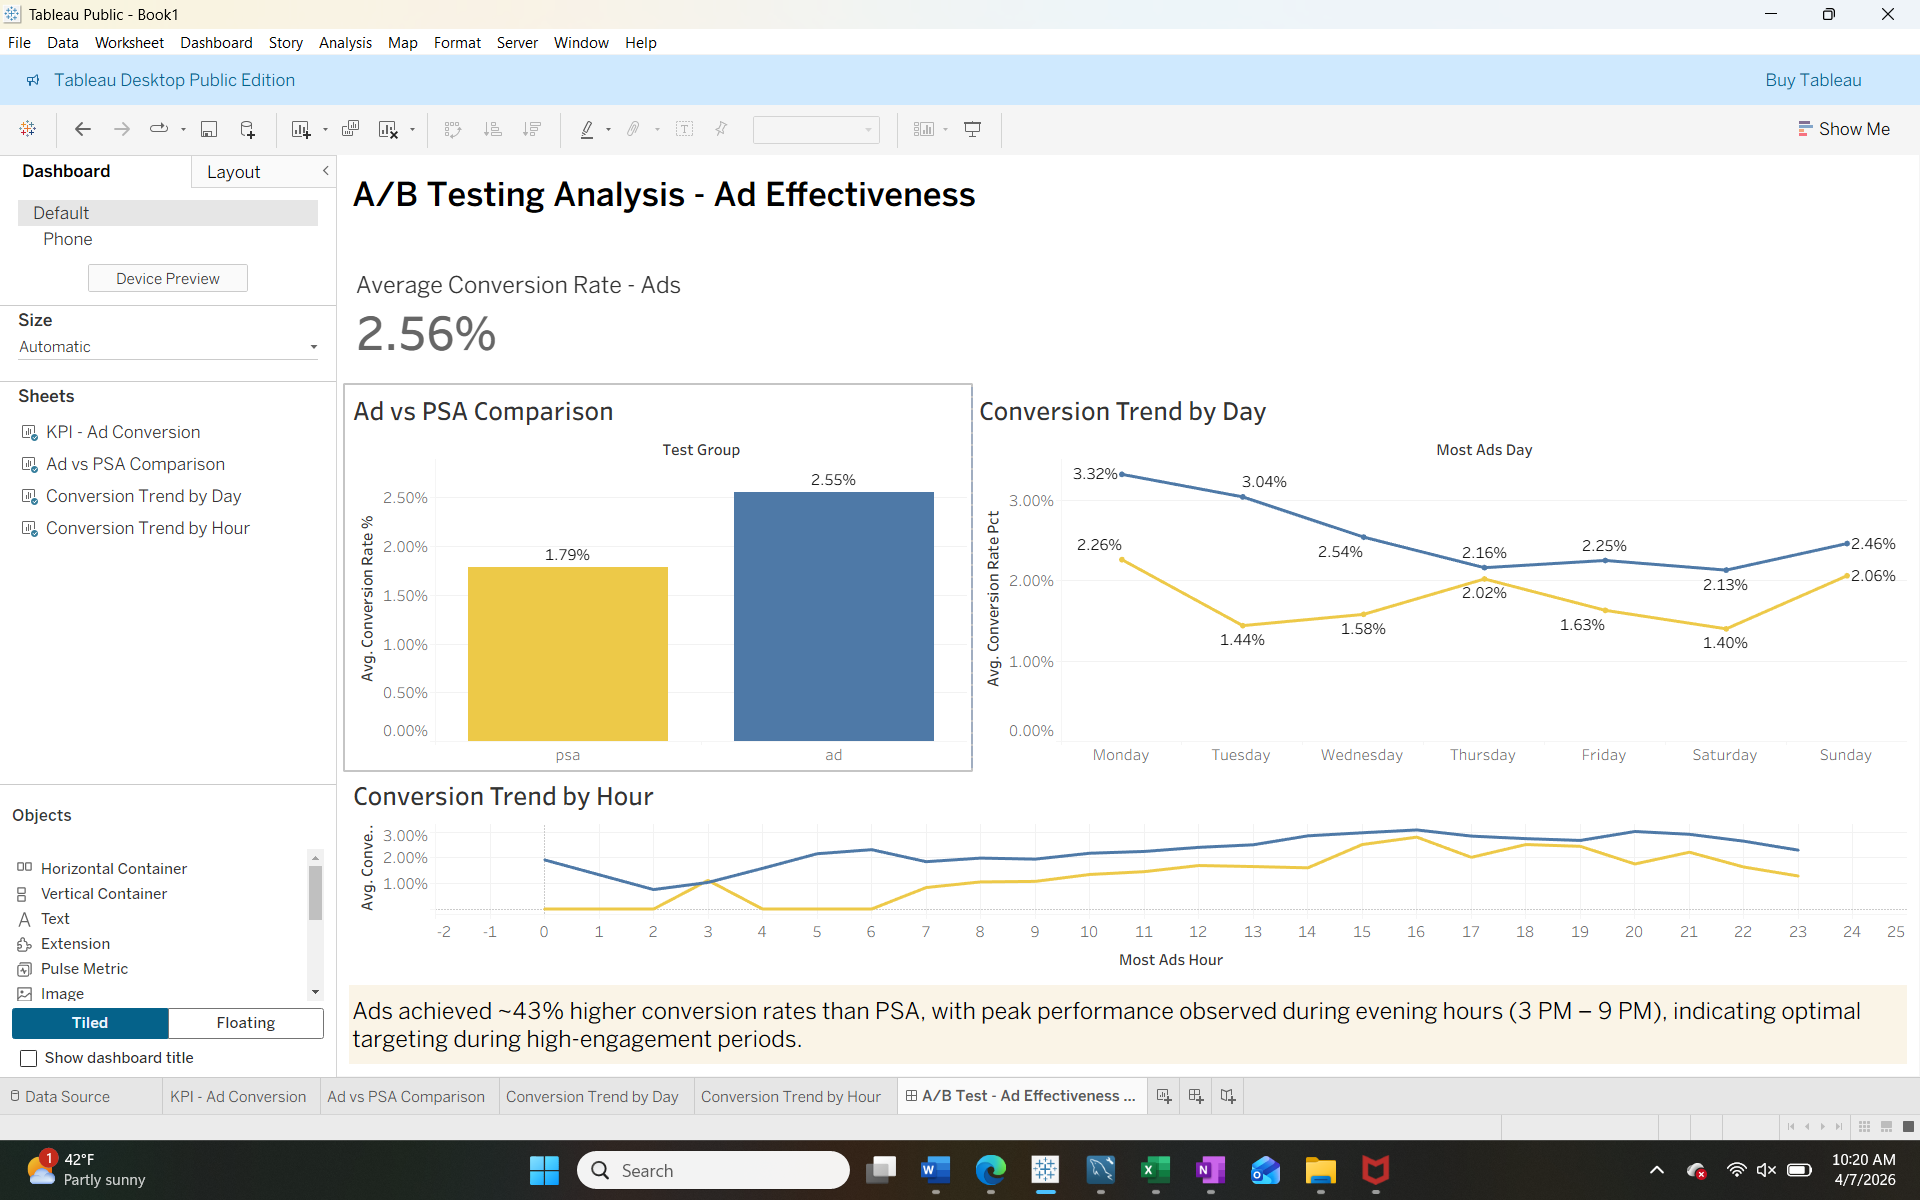

The dashboard page shown, as its layout file describes it:
{"tool":"tableau","page":{"name":"A/B Test - Ad Effectiveness Dashboard","canvas":[1000,1000],"units":"permille","ordinal":0},"visuals":[{"type":"text","box":[5.1,8.7,989.9,69.5]},{"type":"worksheet","title":"KPI - Ad Conversion","mark":"Automatic","box":[5.1,78.2,989.9,171.6]},{"type":"worksheet","title":"Ad vs PSA Comparison","mark":"Automatic","rows":["Calculation_1881378801555963904"],"cols":["test_group"],"box":[5.1,249.7,395.7,417.6]},{"type":"worksheet","title":"Conversion Trend by Day","mark":"Line","rows":["conversion_rate_pct"],"cols":["most_ads_day"],"box":[400.8,249.7,594.1,417.6]},{"type":"worksheet","title":"Conversion Trend by Hour","mark":"Line","rows":["conversion_rate_pct"],"cols":["most_ads_hour"],"box":[5.1,667.3,989.9,229.5]},{"type":"text","box":[5.1,896.9,989.9,94.5]}]}

Visuals, with their boxes on the dashboard's canvas, which has no fixed pixel size, in thousandths of its width and height (x1, y1, x2, y2). These are canvas units, not pixel positions in the 1920x1200 screenshot, which may show the page scaled, cropped or inside an application window:
text: left=5, top=9, right=995, bottom=78
"KPI - Ad Conversion" worksheet: left=5, top=78, right=995, bottom=250
"Ad vs PSA Comparison" worksheet: left=5, top=250, right=401, bottom=667
"Conversion Trend by Day" worksheet (Line marks): left=401, top=250, right=995, bottom=667
"Conversion Trend by Hour" worksheet (Line marks): left=5, top=667, right=995, bottom=897
text: left=5, top=897, right=995, bottom=991
